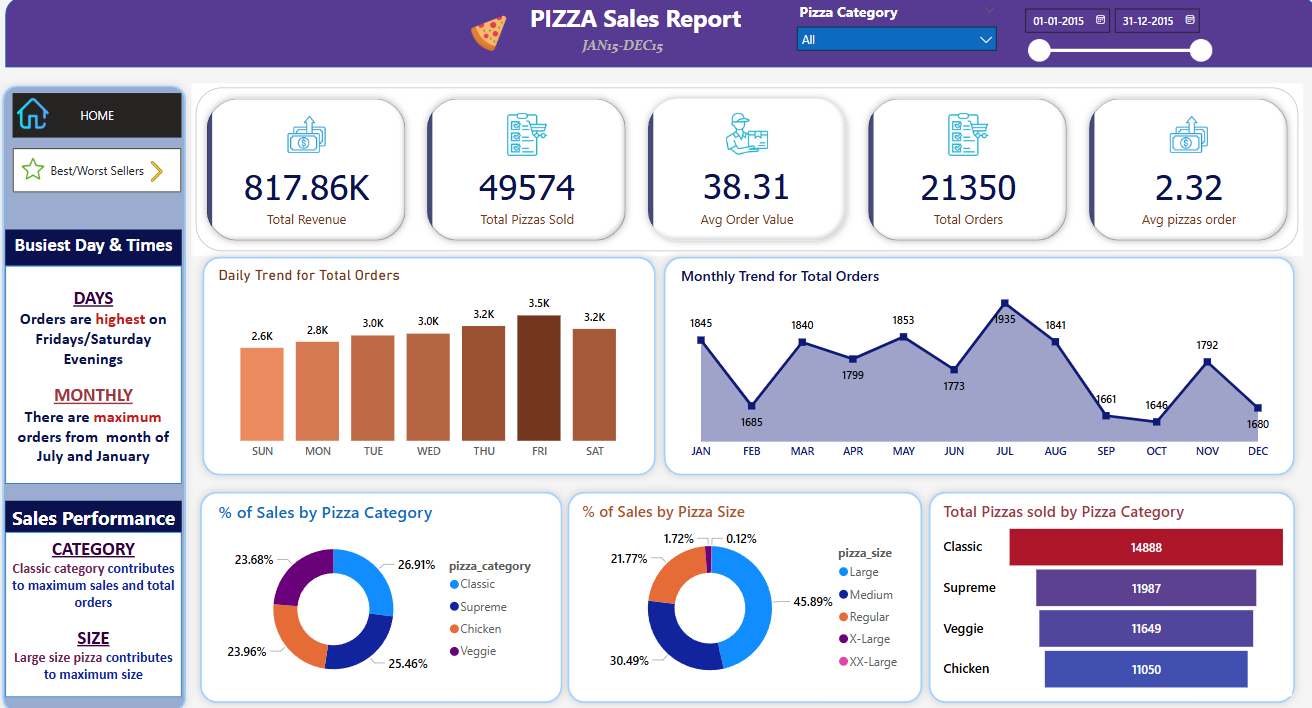

This screenshot's page, from the dashboard's own definition file:
{"tool":"powerbi","page":{"name":"HOME","canvas":[1500,820],"ordinal":0},"visuals":[{"type":"cardVisual","fields":{"Data":["pizza_sales.Total Revenue","pizza_sales.Total Pizzas Sold","pizza_sales.Avg Order Value","pizza_sales.total_orders","pizza_sales.Avg pizzas order"]},"box":[224.3,97.1,1260,195.7],"z":0},{"type":"shape","box":[13.3,0,1486.7,80],"z":1000},{"type":"textbox","box":[593.3,0,266.7,63.3],"z":2000},{"type":"textbox","box":[661.7,40,130,40],"z":3000},{"type":"image","box":[526.7,15,66.7,51.7],"z":4000},{"type":"shape","box":[227.1,284.3,532.9,267.1],"z":5000},{"type":"columnChart","title":"Daily Trend for Total Orders","fields":{"Y":["pizza_sales.Total Orders"],"Category":["pizza_sales.Order day"]},"box":[250,304.3,487.1,228.6],"z":6000},{"type":"shape","box":[750,284.3,734.3,267.1],"z":7000},{"type":"areaChart","title":"Monthly Trend for Total Orders","fields":{"Category":["pizza_sales.Order Month"],"Y":["pizza_sales.Total Orders"]},"box":[772.9,304.3,687.1,228.6],"z":8000},{"type":"shape","box":[224.3,551.4,430,258.6],"z":9000},{"type":"shape","box":[0,90,227.1,730],"z":10000},{"type":"shape","box":[640,551.4,421.4,258.6],"z":11000},{"type":"shape","box":[1050,551.4,434.3,258.6],"z":12000},{"type":"donutChart","title":"% of Sales by Pizza Category","fields":{"Category":["pizza_sales.pizza_category"],"Y":["pizza_sales.Total Revenue"]},"box":[250,571.4,380,221.4],"z":13000},{"type":"donutChart","title":"% of Sales by Pizza Size","fields":{"Y":["pizza_sales.Total Revenue"],"Category":["pizza_sales.pizza_size"]},"box":[661.4,571.4,380,221.4],"z":14000},{"type":"funnel","title":"Total Pizzas sold  by Pizza Category","fields":{"Category":["pizza_sales.pizza_category"],"Y":["pizza_sales.Total Pizzas Sold"]},"box":[1071.4,571.4,400,221.4],"z":15000},{"type":"textbox","box":[12.9,262.9,200,41.4],"z":16000},{"type":"textbox","box":[12.9,304.3,200,247.1],"z":17000},{"type":"textbox","box":[12.9,571.4,200,41.4],"z":18000},{"type":"textbox","box":[12.9,605.7,200,187.1],"z":19000},{"type":"slicer","fields":{"Values":["pizza_sales.pizza_category"]},"box":[900,0,247.1,80],"z":20000},{"type":"slicer","fields":{"Values":["pizza_sales.order_date"]},"box":[1155.7,2.9,232.9,87.1],"z":21000},{"type":"pageNavigator","box":[21.4,108.6,191.4,50],"z":22000},{"type":"pageNavigator","box":[21.4,171.4,191.4,50],"z":23000},{"type":"image","box":[167.1,181.4,34.3,32.9],"z":24000},{"type":"image","box":[21.4,108.6,45.7,45.7],"z":25000},{"type":"image","box":[17.1,177.1,54.3,35.7],"z":26000}]}

Visuals, with their boxes in screenshot pixels (x1, y1, x2, y2), scaled from the page's 1500x820 canvas onto the 1312x708 screenshot:
cardVisual - pizza_sales.Total Revenue x pizza_sales.Total Pizzas Sold: x1=196 y1=84 x2=1298 y2=253
shape: x1=12 y1=0 x2=1311 y2=69
textbox: x1=519 y1=0 x2=752 y2=55
textbox: x1=579 y1=35 x2=692 y2=69
image: x1=461 y1=13 x2=519 y2=58
shape: x1=199 y1=245 x2=665 y2=476
"Daily Trend for Total Orders" columnChart: x1=219 y1=263 x2=645 y2=460
shape: x1=656 y1=245 x2=1298 y2=476
"Monthly Trend for Total Orders" areaChart: x1=676 y1=263 x2=1277 y2=460
shape: x1=196 y1=476 x2=572 y2=699
shape: x1=0 y1=78 x2=199 y2=707
shape: x1=560 y1=476 x2=928 y2=699
shape: x1=918 y1=476 x2=1298 y2=699
"% of Sales by Pizza Category" donutChart: x1=219 y1=493 x2=551 y2=685
"% of Sales by Pizza Size" donutChart: x1=579 y1=493 x2=911 y2=685
"Total Pizzas sold  by Pizza Category" funnel: x1=937 y1=493 x2=1287 y2=685
textbox: x1=11 y1=227 x2=186 y2=263
textbox: x1=11 y1=263 x2=186 y2=476
textbox: x1=11 y1=493 x2=186 y2=529
textbox: x1=11 y1=523 x2=186 y2=685
slicer - pizza_sales.pizza_category: x1=787 y1=0 x2=1003 y2=69
slicer - pizza_sales.order_date: x1=1011 y1=3 x2=1215 y2=78
pageNavigator: x1=19 y1=94 x2=186 y2=137
pageNavigator: x1=19 y1=148 x2=186 y2=191
image: x1=146 y1=157 x2=176 y2=185
image: x1=19 y1=94 x2=59 y2=133
image: x1=15 y1=153 x2=62 y2=184
